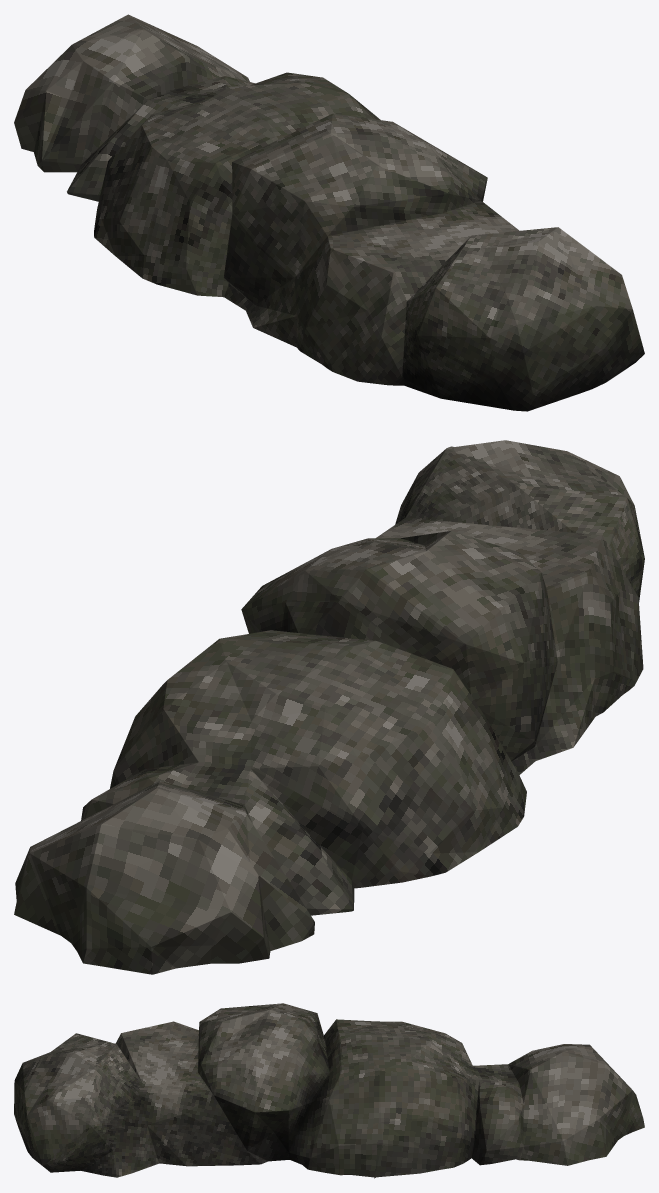
File: small_rocks_00.glb
3 views of the same model, one above another, from view 1: azimuth 30°, elevation 25°; view 2: azimuth 150°, elevation 25°; view 3: azimuth 270°, elevation 25° (orthographic). The views are drawn at different scales.
Visible parts, largest first — view 1: small_rocks_00; view 2: small_rocks_00; view 3: small_rocks_00.
Part boxes in pixels (x1=…): small_rocks_00: x1=14, y1=14, x2=644, y2=411; small_rocks_00: x1=14, y1=440, x2=644, y2=974; small_rocks_00: x1=14, y1=1003, x2=644, y2=1178.
Size of the model in its own units: 4.53 by 2.26 by 11.64.
Materials: 1 (1 with a texture image).
